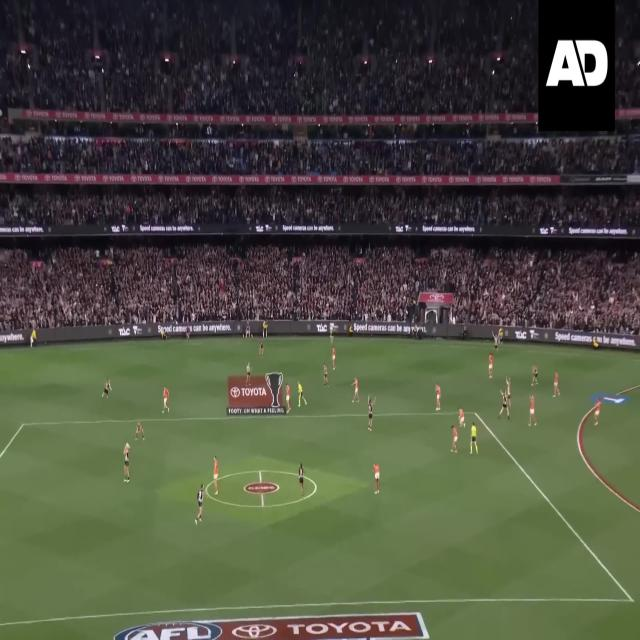crowd: (0, 5, 537, 117), (0, 239, 640, 331), (0, 118, 639, 176), (0, 182, 640, 228), (613, 0, 639, 104)
